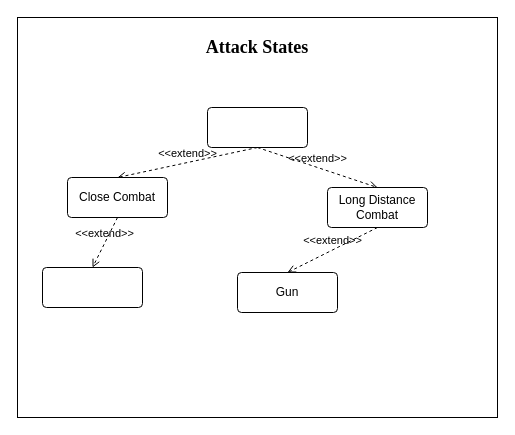
This 515x435 diagram has some shape labels left out. Each missing label, with the box of its shape:
Attack: (206, 106, 308, 148)
Knife: (42, 266, 142, 308)
